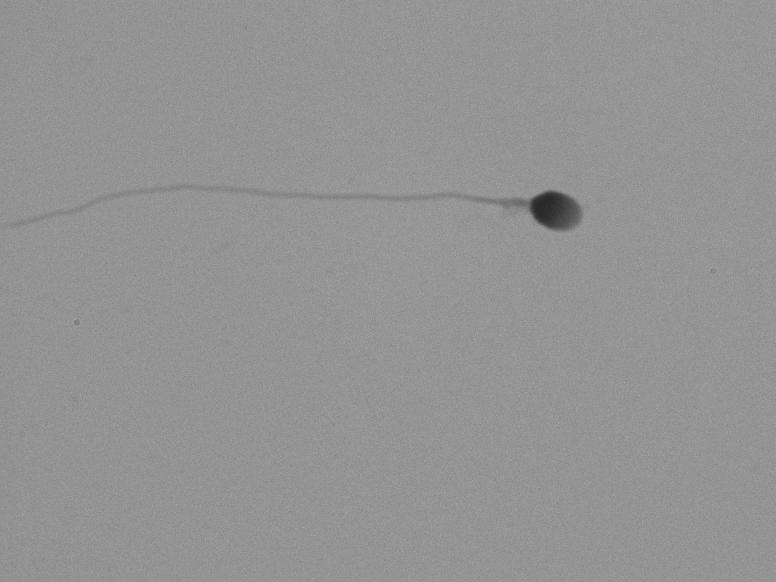Normal: (23, 110, 615, 333)
